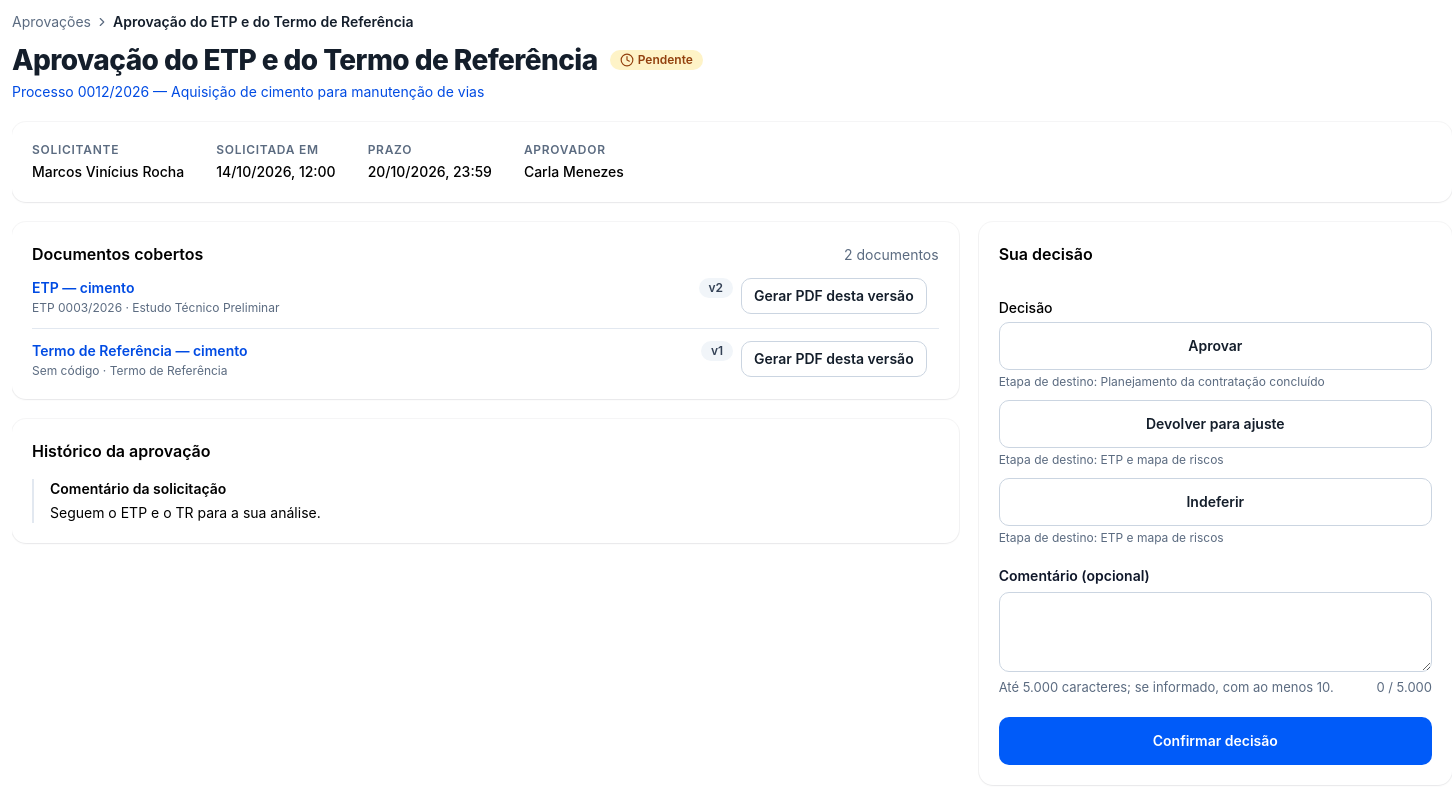
Test: SCR-015 · Detalhe da aprovação (US-052) › 422 VALIDATION_ERROR do servidor marca o campo e o foca
Click the button "Devolver para ajuste" at (1215, 424), box 999,400 -> 1432,448
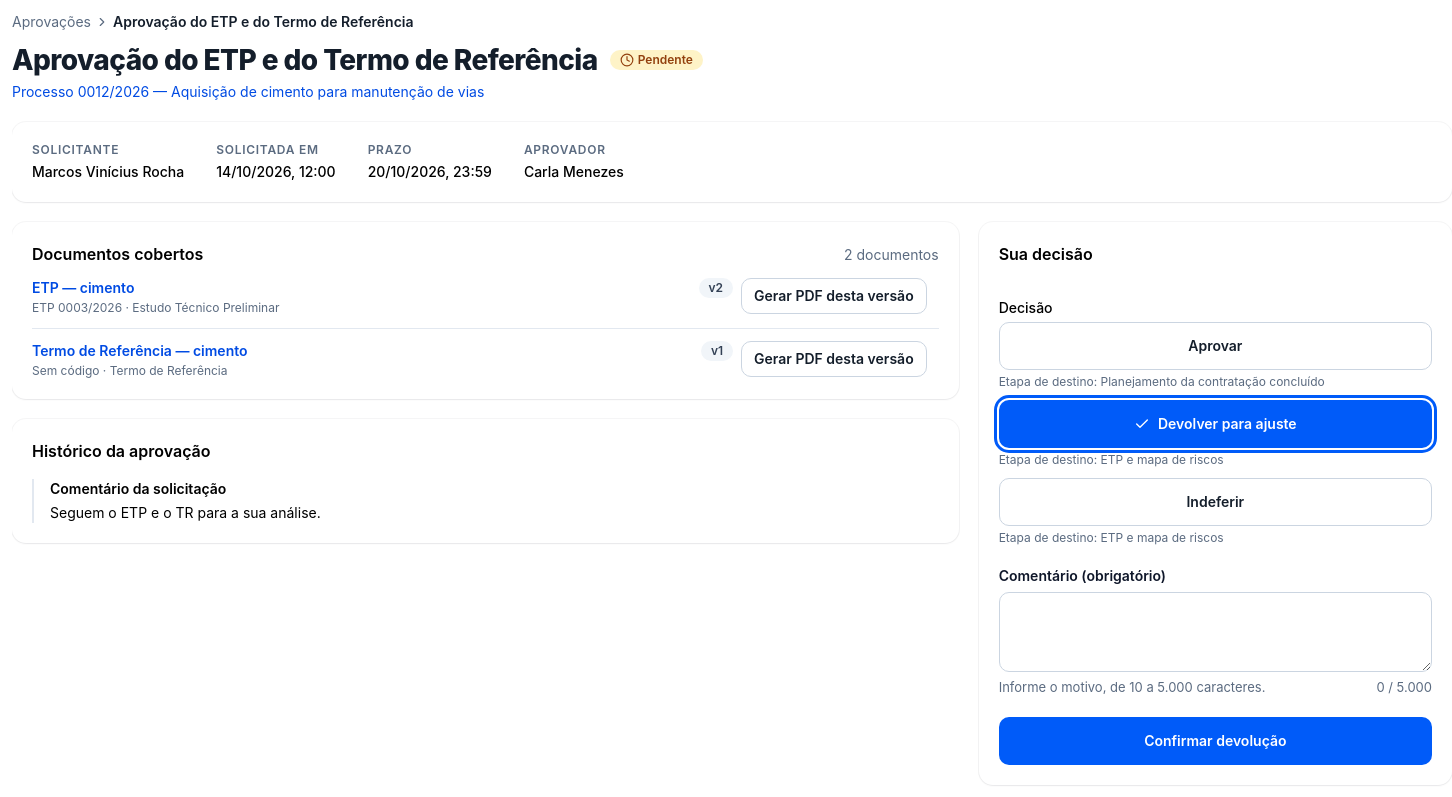
Type "Faltou detalhar a justificativa da contratação no ETP" into the text box labelled "Comentário (obrigatório)" at (1215, 632), box 999,592 -> 1432,672
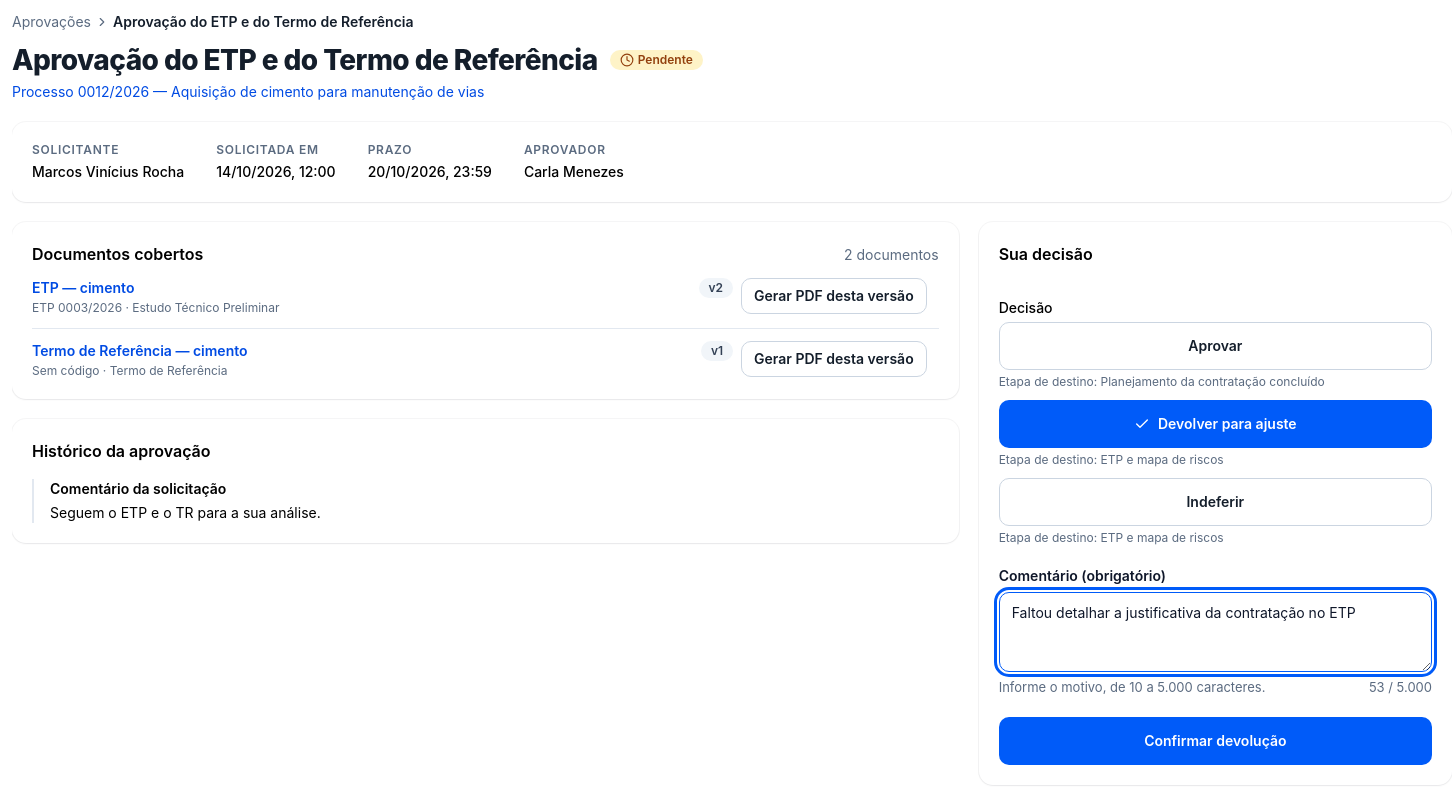
Click the button "Confirmar devolução" at (1215, 741), box 999,717 -> 1432,765
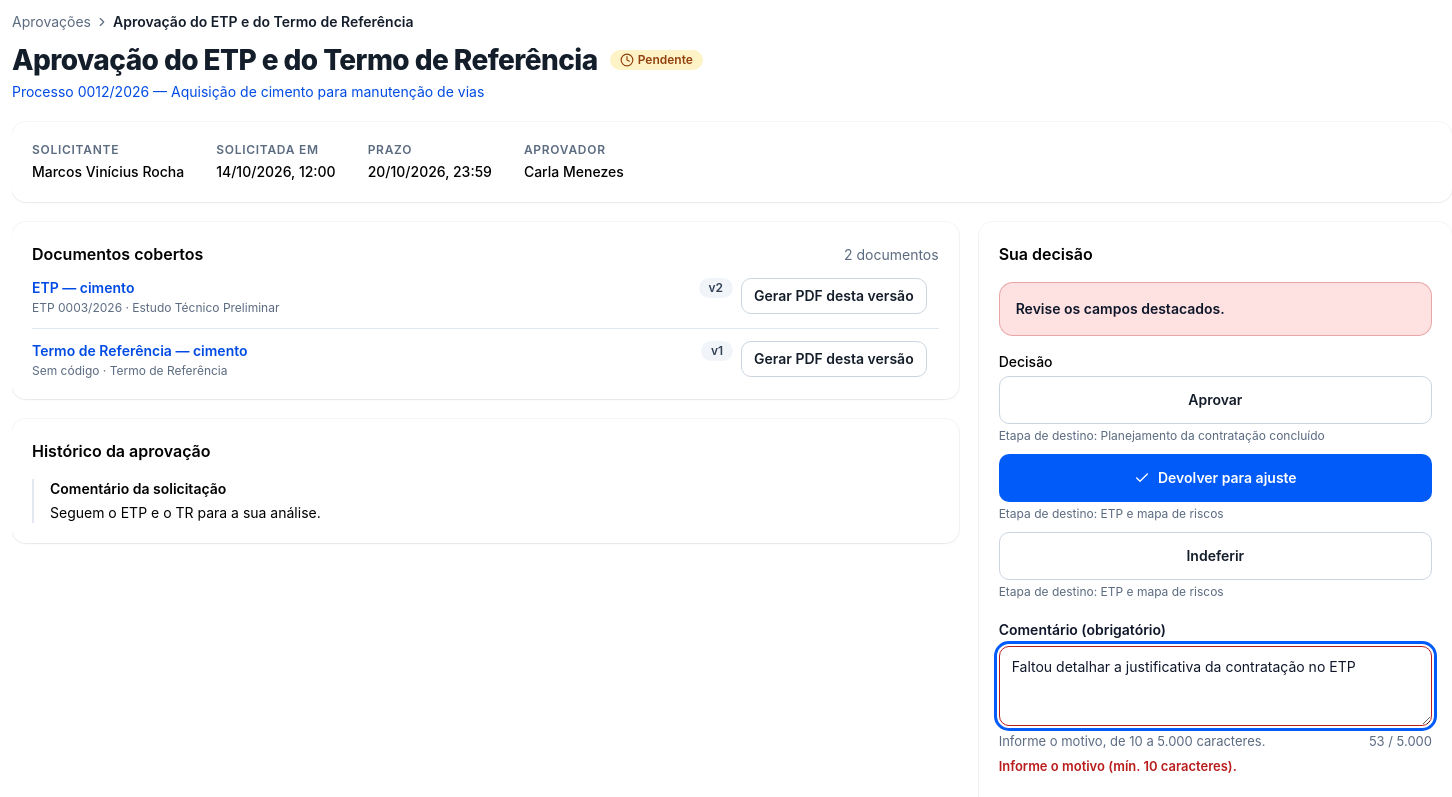
Expected: the text "Informe o motivo (mín. 10 caracteres)." is shown, 999,758 -> 1237,774
Expected: the text "Revise os campos destacados." is shown, 1016,300 -> 1225,317
